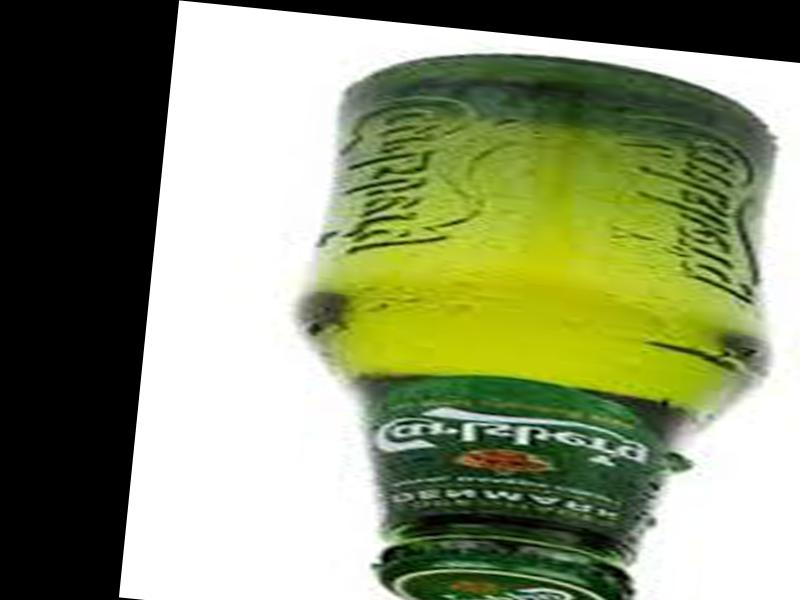Beer: (280, 32, 794, 600)
